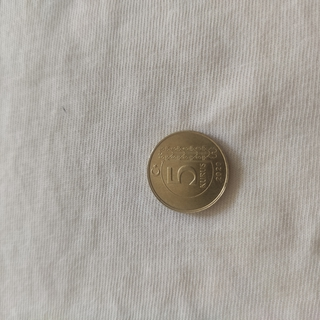5KURUS: (146, 129, 230, 216)
